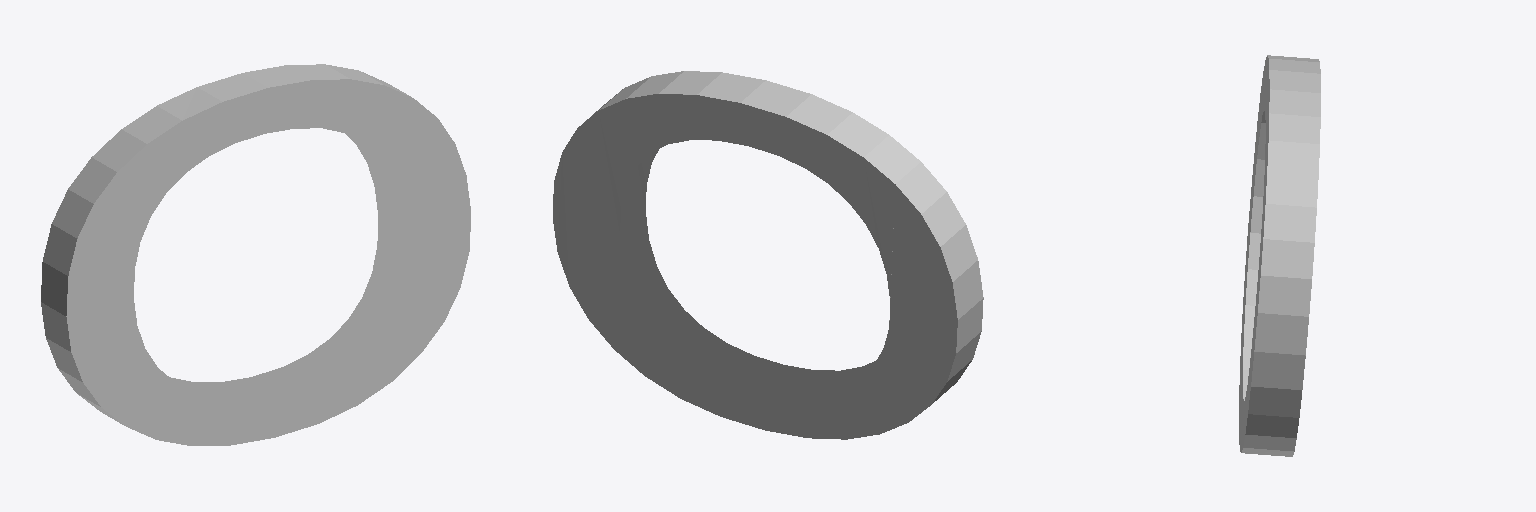
The model's file is original-150.obj.
3 views of the same model, side by side, from view 1: azimuth 30°, elevation 25°; view 2: azimuth 150°, elevation 25°; view 3: azimuth 270°, elevation 25° (orthographic).
Visible parts, largest first — view 1: #ID869; view 2: #ID869; view 3: #ID869.
Boxes of the visible parts, box(x1,y1,x2,y2) form: #ID869: box(41, 64, 470, 445); #ID869: box(553, 71, 983, 439); #ID869: box(1239, 55, 1320, 456).
Bounding box in the file's own units: 0.0073 × 0.0059 × 0.0013.